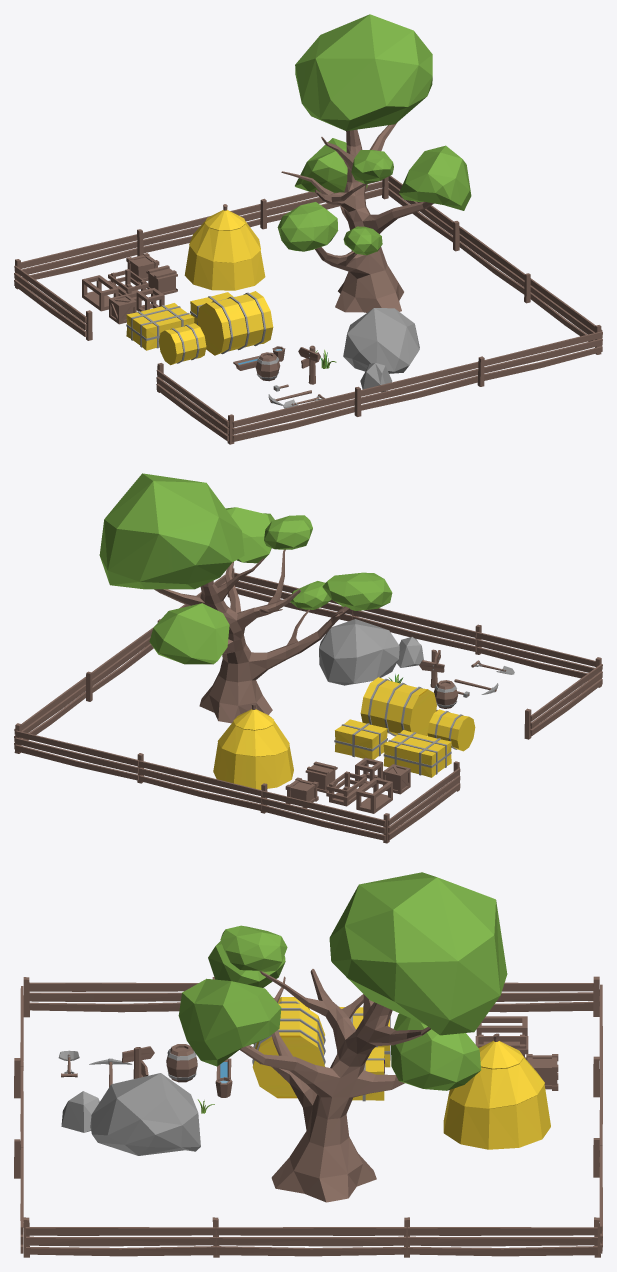
The model's file is low_poly_farm_asset.glb.
3 views of the same model, one above another, from view 1: azimuth 30°, elevation 25°; view 2: azimuth 150°, elevation 25°; view 3: azimuth 270°, elevation 25° (orthographic). The views are drawn at different scales.
Parts seen in each view (by area): view 1: rock02_Mesh_007; view 2: rock02_Mesh_007; view 3: rock02_Mesh_007.
Part boxes in pixels (box(x1,y1,x2,y2)): rock02_Mesh_007: box(14, 14, 602, 444); rock02_Mesh_007: box(14, 473, 602, 843); rock02_Mesh_007: box(14, 872, 602, 1257).
Size of the model in its own units: 12.73 by 7.97 by 12.9.
1 material, 1 textured.
